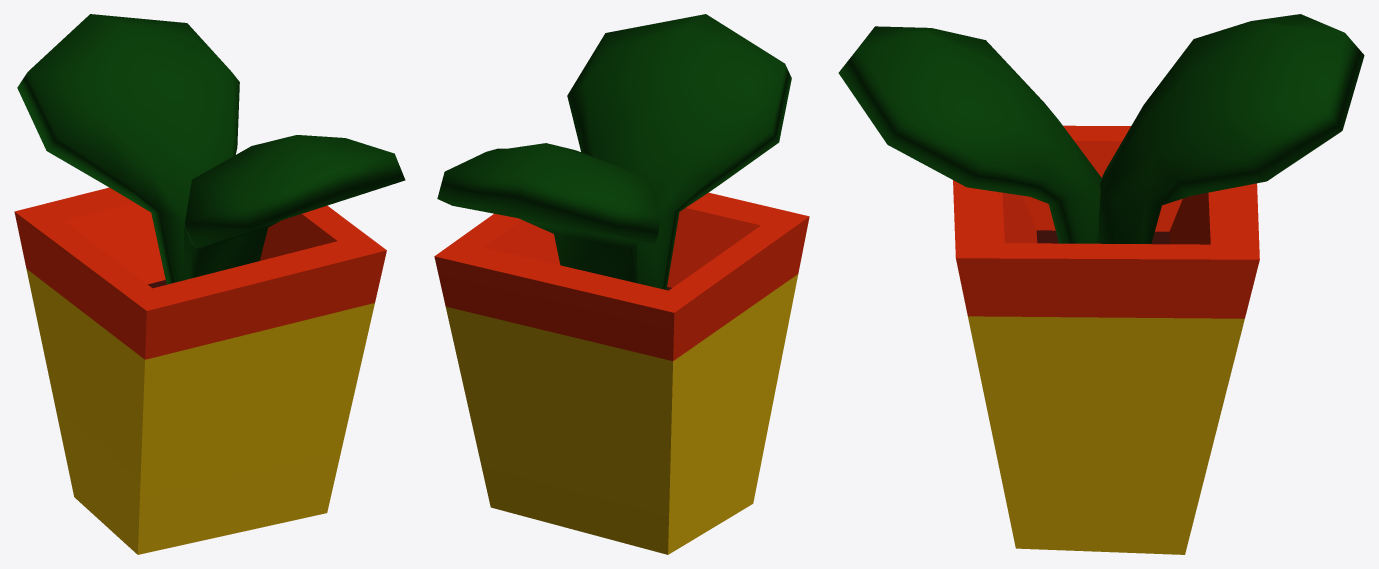
File: PlantsS.fbx
3 views of the same model, side by side, from view 1: azimuth 30°, elevation 25°; view 2: azimuth 150°, elevation 25°; view 3: azimuth 270°, elevation 25° (orthographic). The views are drawn at different scales.
Visible parts, largest first — view 1: PlantsS; view 2: PlantsS; view 3: PlantsS.
Boxes of the visible parts, x1,y1,x2,y2 form: PlantsS: (14, 14, 405, 554); PlantsS: (434, 14, 809, 554); PlantsS: (838, 14, 1364, 554).
Bounding box in the file's own units: 0.0055 × 0.00911 × 0.0091.
